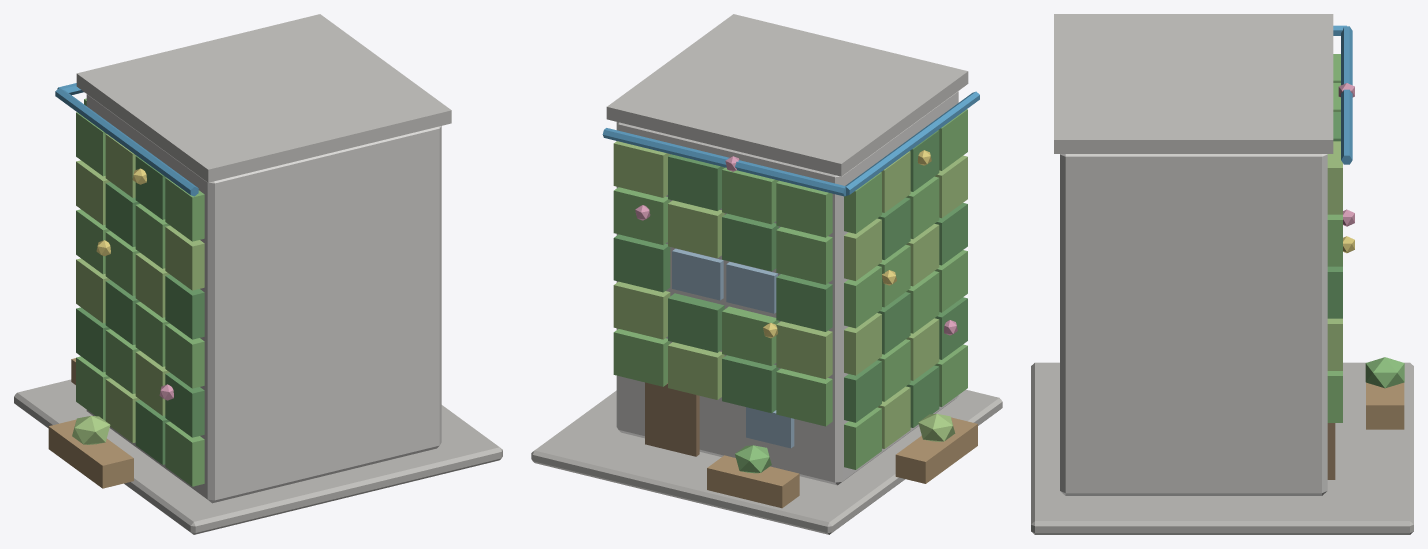
Rendered from parques__parede_verde.glb.
3 renders of one model, left to right at view 1: azimuth 30°, elevation 25°; view 2: azimuth 150°, elevation 25°; view 3: azimuth 270°, elevation 25°, orthographic. The views are drawn at different scales.
Parts seen in each view (by area): view 1: parques__parede_verde; view 2: parques__parede_verde; view 3: parques__parede_verde.
Part boxes in pixels (x1,y1,x2,y2): parques__parede_verde: (14,14,502,534); parques__parede_verde: (531,14,1002,534); parques__parede_verde: (1031,14,1413,534).
Bounding box in the file's own units: 2.21 × 2.16 × 2.
